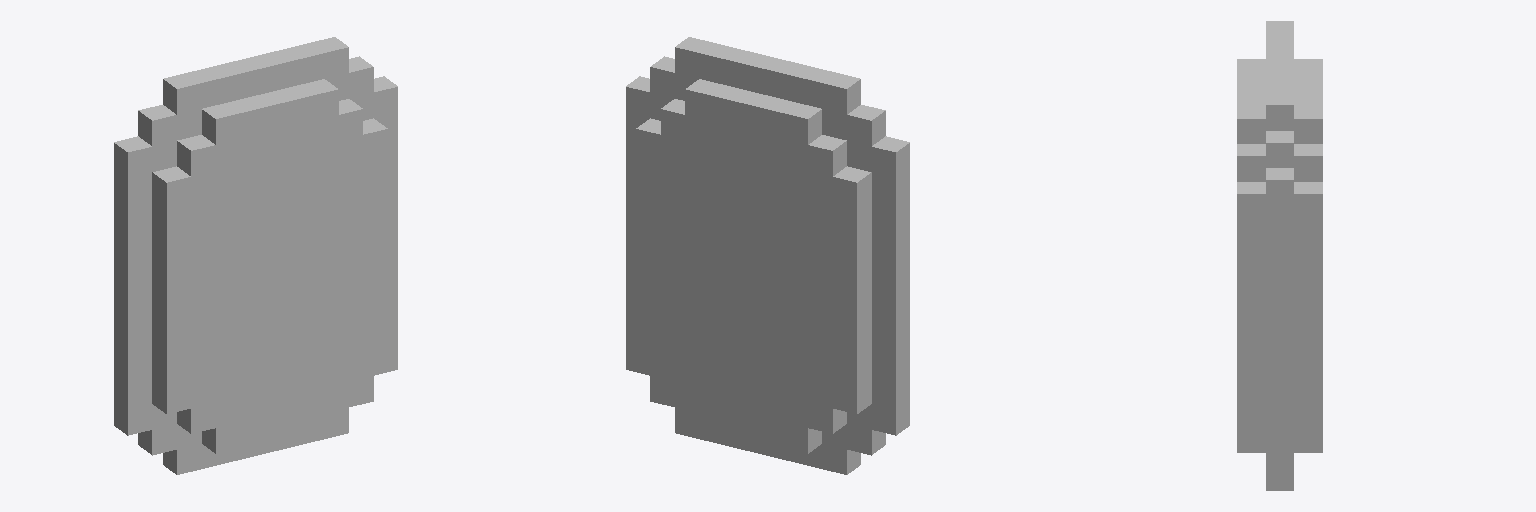
File: money.obj
3 views of the same model, side by side, from view 1: azimuth 30°, elevation 25°; view 2: azimuth 150°, elevation 25°; view 3: azimuth 270°, elevation 25° (orthographic).
Visible parts, largest first — view 1: object 1; view 2: object 1; view 3: object 1.
Boxes of the visible parts, x1=… form: object 1: x1=114, y1=37, x2=397, y2=474; object 1: x1=626, y1=37, x2=909, y2=474; object 1: x1=1237, y1=21, x2=1322, y2=490.
Bounding box in the file's own units: 1.1 × 1.5 × 0.3.